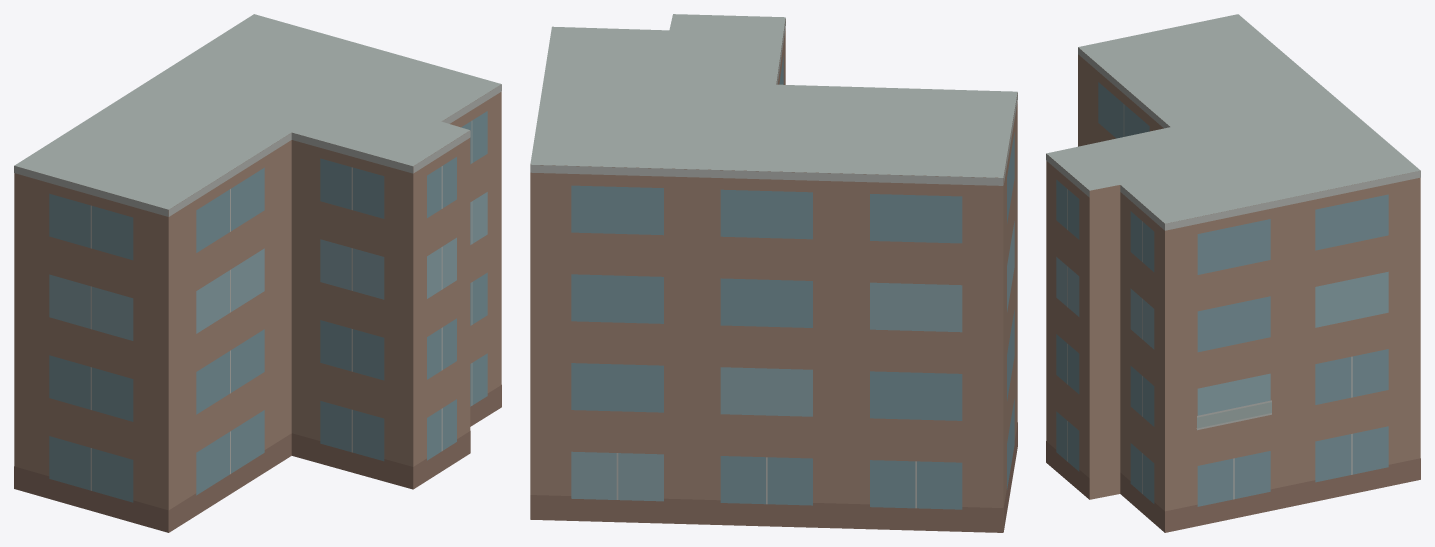
Rendered from survey-upis-33038490.glb.
3 renders of one model, left to right at view 1: azimuth 30°, elevation 25°; view 2: azimuth 150°, elevation 25°; view 3: azimuth 270°, elevation 25°, orthographic. The views are drawn at different scales.
Parts seen in each view (by area): view 1: survey-upis-33038490.tmp; view 2: survey-upis-33038490.tmp; view 3: survey-upis-33038490.tmp.
Part boxes in pixels (box(x1,y1,x2,y2)): survey-upis-33038490.tmp: box(14, 14, 501, 532); survey-upis-33038490.tmp: box(530, 14, 1017, 532); survey-upis-33038490.tmp: box(1046, 14, 1420, 532).
Bounding box in the file's own units: 15.7 × 10.78 × 11.85.
